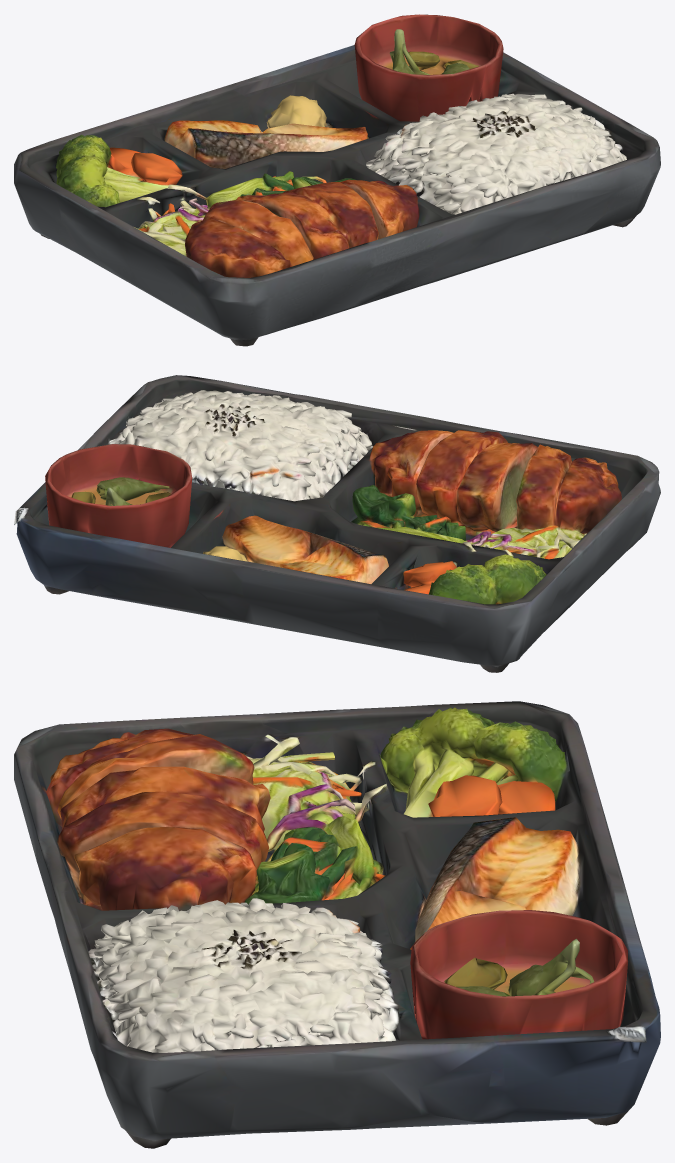
File: halabalo.glb
3 renders of one model, top to bottom at view 1: azimuth 30°, elevation 25°; view 2: azimuth 150°, elevation 25°; view 3: azimuth 270°, elevation 25°, orthographic. The views are drawn at different scales.
Parts seen in each view (by area): view 1: Object_4; view 2: Object_4; view 3: Object_4.
Part boxes in pixels (x1=…): Object_4: x1=14, y1=14, x2=660, y2=346; Object_4: x1=14, y1=375, x2=660, y2=672; Object_4: x1=14, y1=701, x2=660, y2=1148.
Bounding box in the file's own units: 0.26 × 0.0507 × 0.1974.
1 material, 1 textured.
